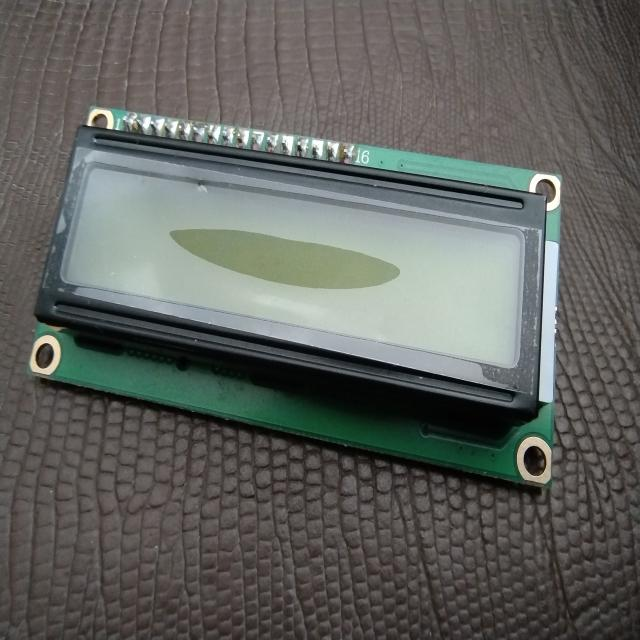lcd: (17, 86, 575, 511)
